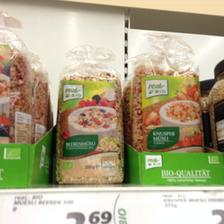Cerealien: (57, 64, 123, 184), (132, 53, 204, 155), (0, 50, 36, 142)
